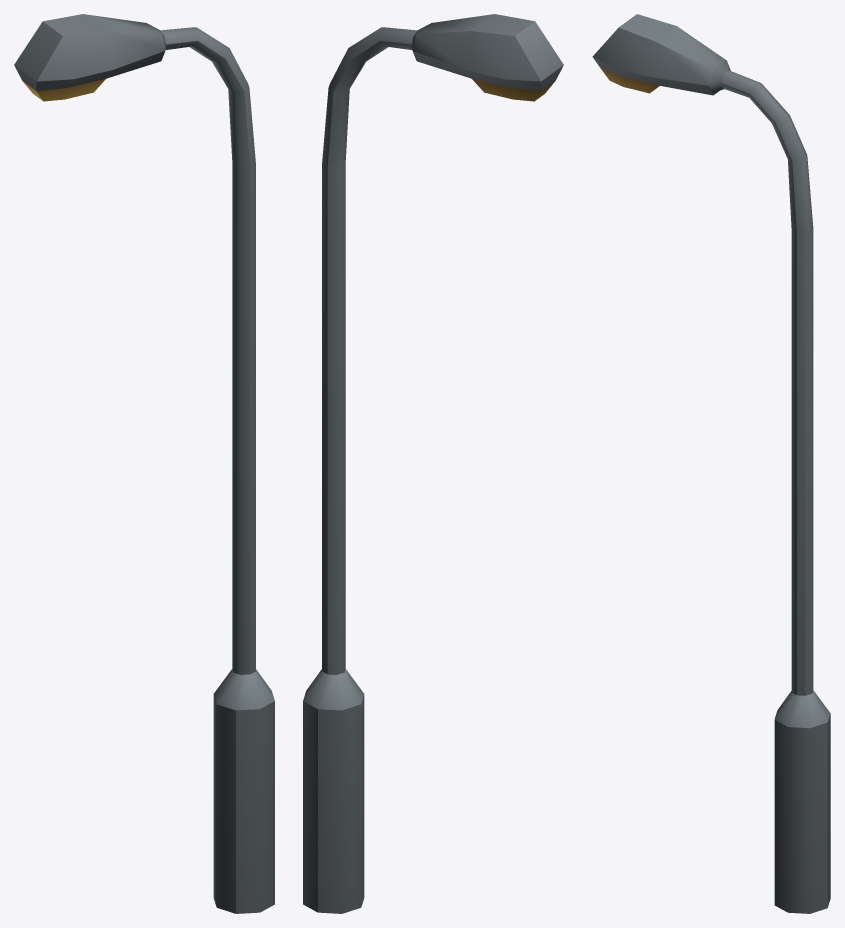
File: city-streetlight.glb
3 views of the same model, side by side, from view 1: azimuth 30°, elevation 25°; view 2: azimuth 150°, elevation 25°; view 3: azimuth 330°, elevation 25° (orthographic). The views are drawn at different scales.
Visible parts, largest first — view 1: streetlight; view 2: streetlight; view 3: streetlight.
Boxes of the visible parts, box(x1,y1,x2,y2) form: streetlight: box(14, 14, 274, 913); streetlight: box(303, 14, 563, 913); streetlight: box(592, 14, 830, 913).
Size of the model in its own units: 0.2693 by 0.9599 by 0.069.
